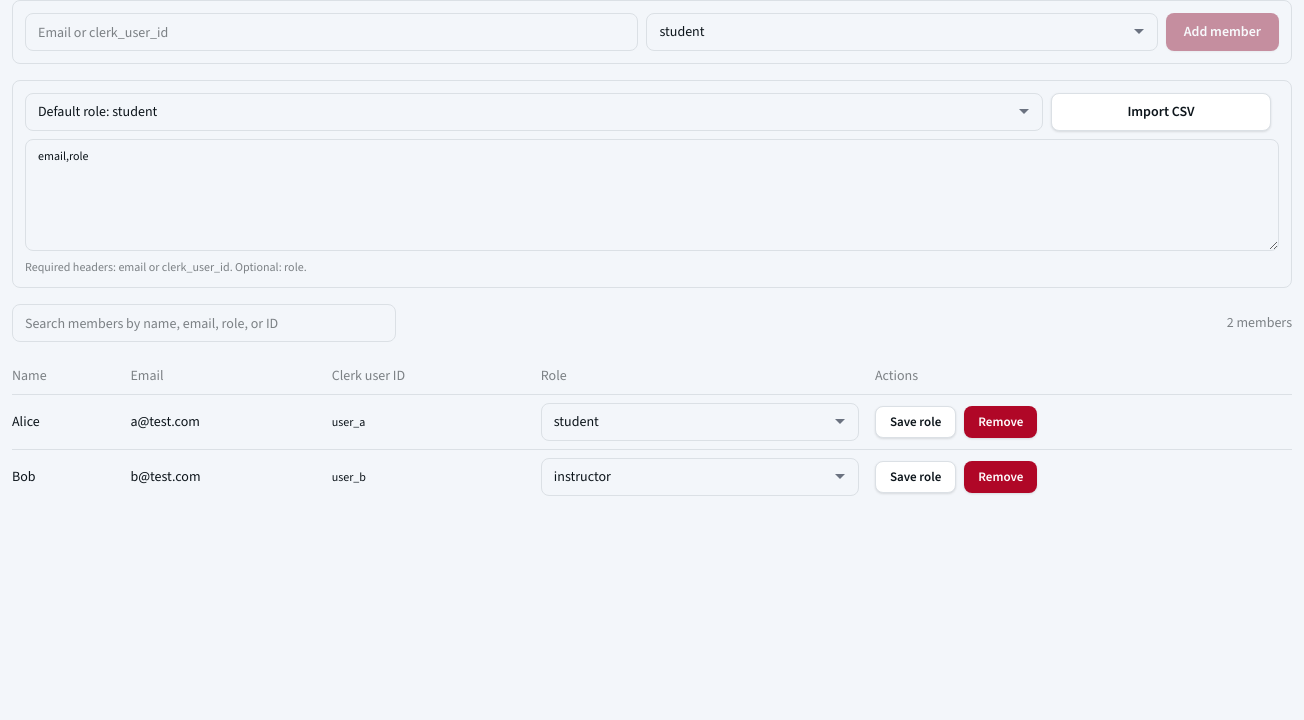
Test: ParishPeopleManager › shows error when addMember returns non-ok
The width and height of the screenshot is (1304, 720).
Type "new@test.com" into the field with placeholder "Email or clerk_user_id" at (332, 32), box [25,13,638,51]
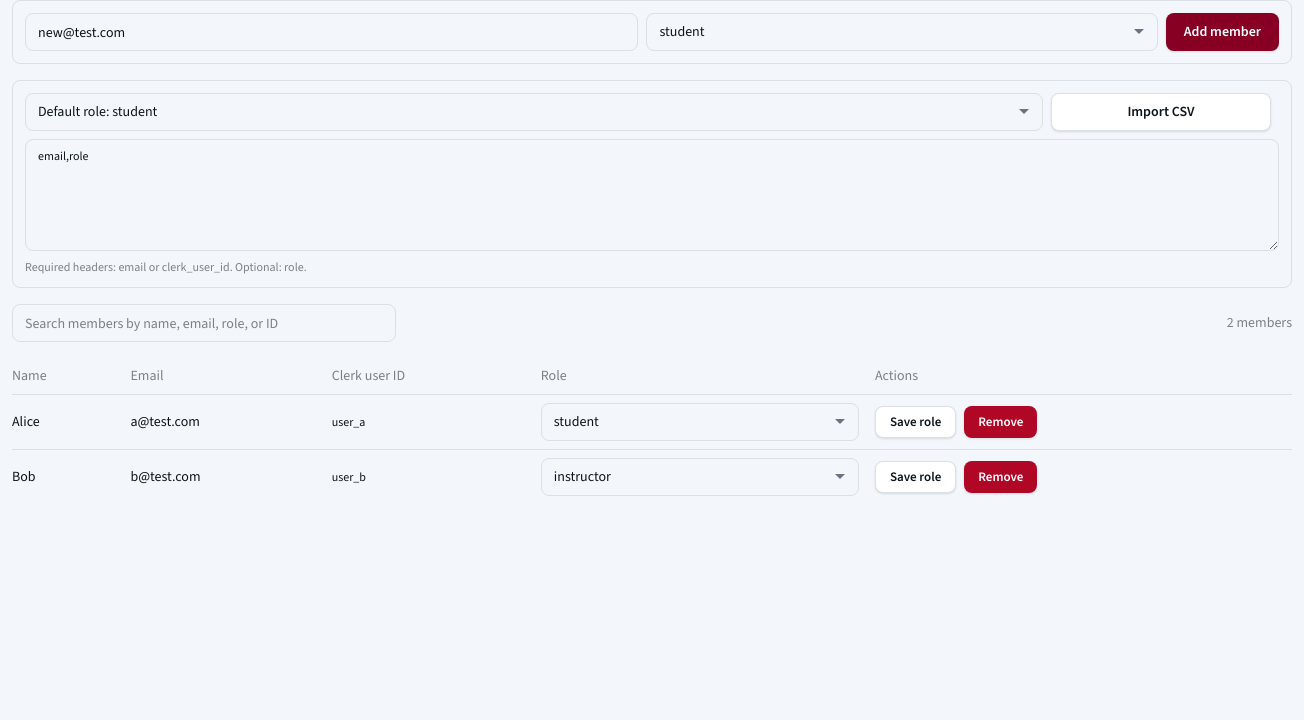
Click the button "Add member" at (1222, 32), box [1166,13,1279,51]
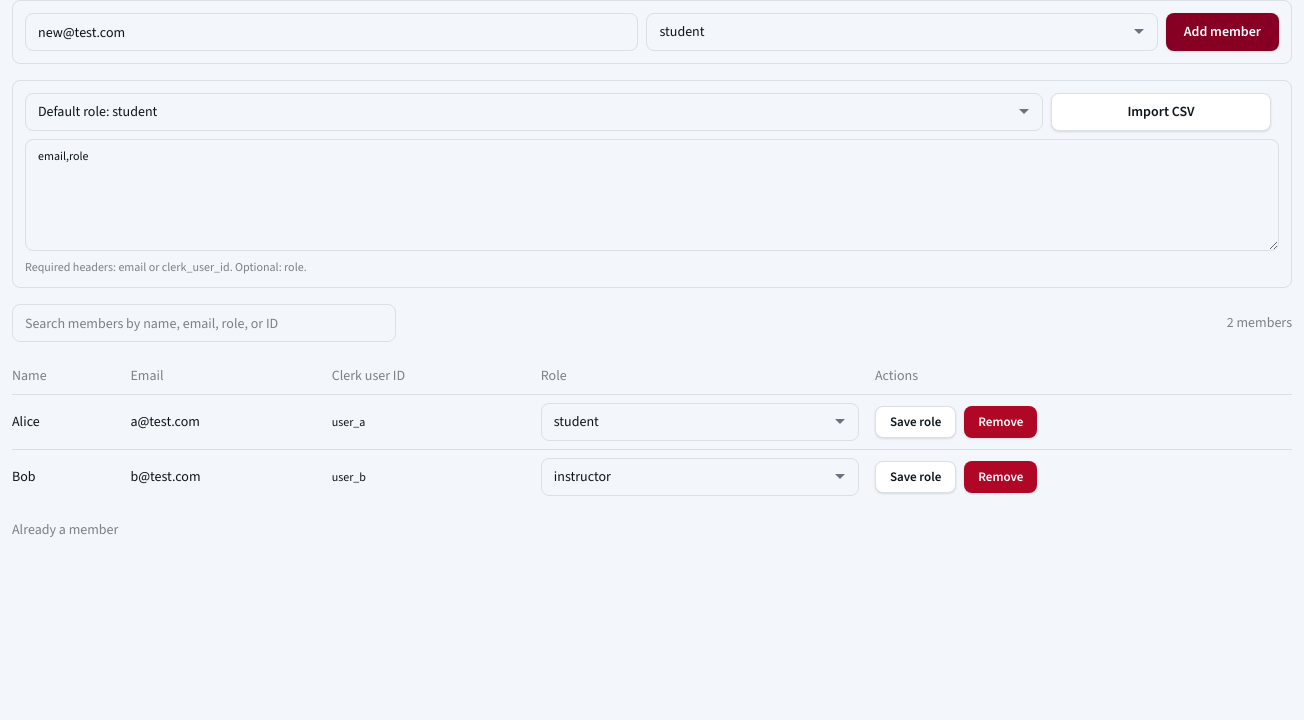
Now the text "Already a member" is shown, box [12,520,118,539]
